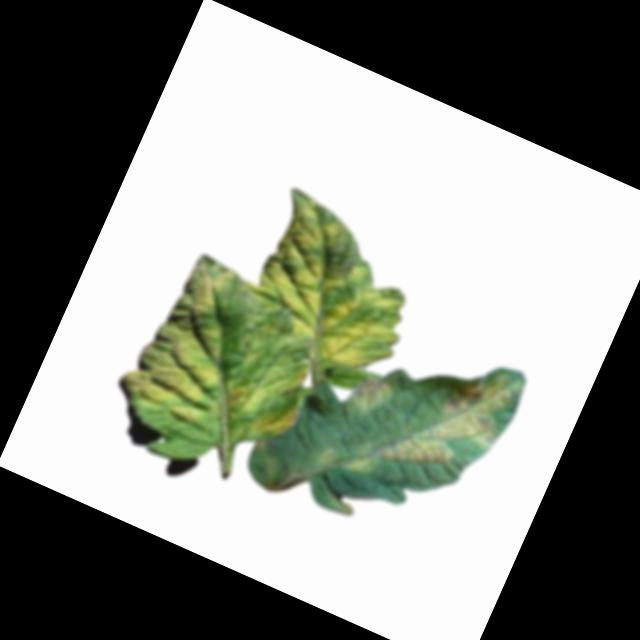Leaf_Mold: (235, 189, 440, 386), (113, 246, 265, 431), (370, 336, 526, 502), (214, 338, 319, 453), (311, 436, 377, 492), (340, 366, 394, 424)
